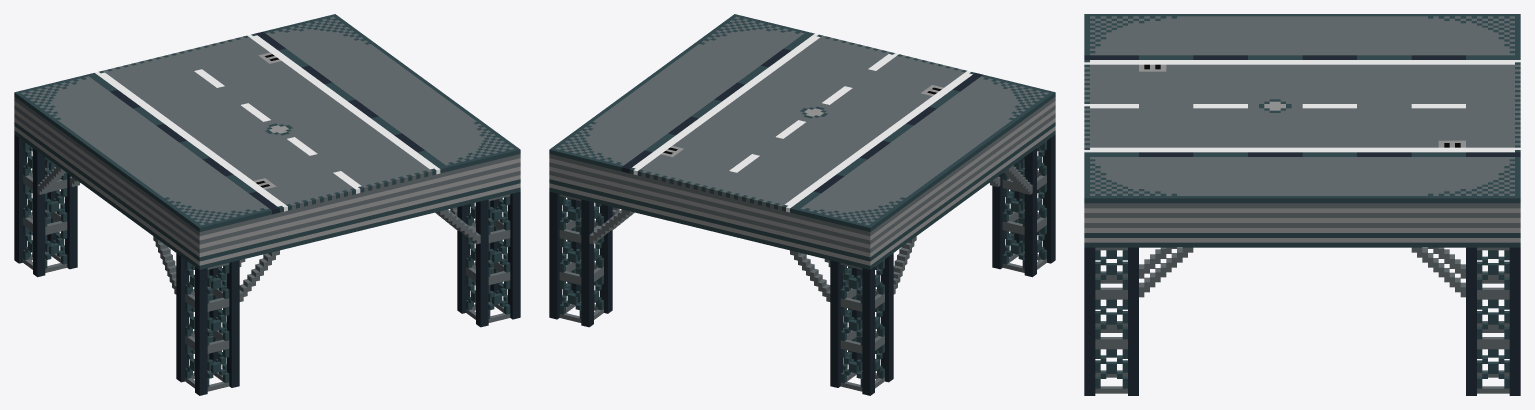
The model's file is bridge_legs.obj.
The picture shows the model from 3 angles, left to right: view 1: azimuth 30°, elevation 25°; view 2: azimuth 150°, elevation 25°; view 3: azimuth 270°, elevation 25°; orthographic projection. The views are drawn at different scales.
Bounding box in the file's own units: 8 × 4 × 8.
Materials: 1 (1 with a texture image).
